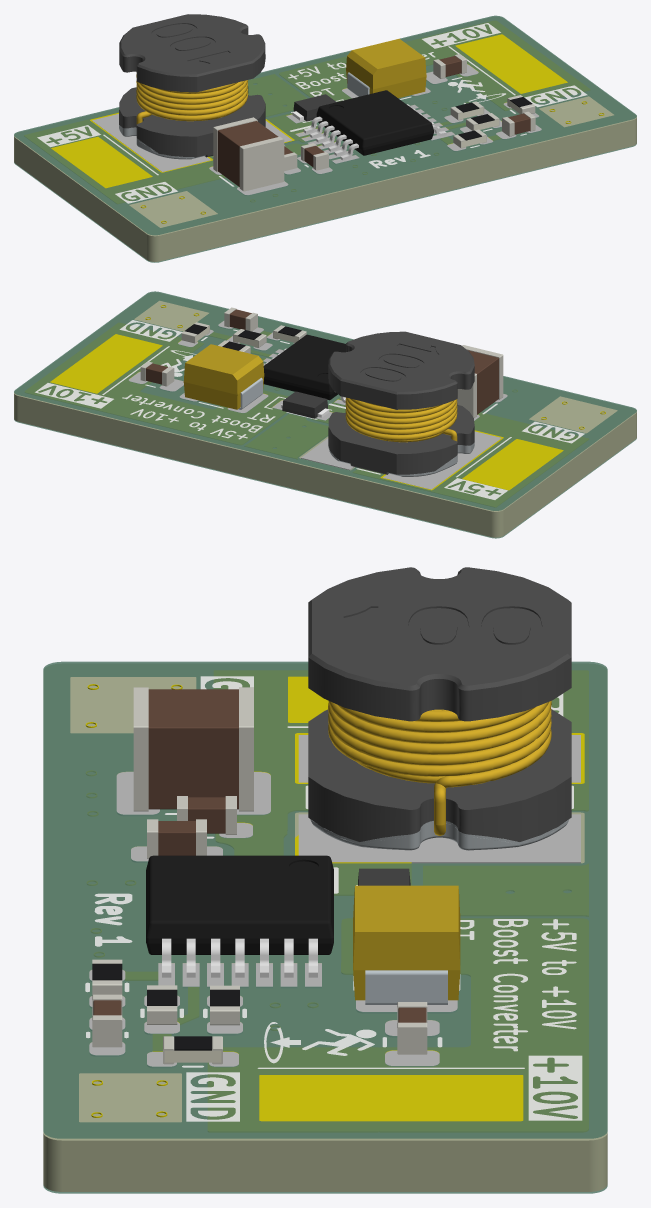
The model's file is board.glb.
3 renders of one model, top to bottom at view 1: azimuth 30°, elevation 25°; view 2: azimuth 150°, elevation 25°; view 3: azimuth 270°, elevation 25°, orthographic. The views are drawn at different scales.
Visible parts, largest first — view 1: =>[0:1:1:29], =>[0:1:1:27], =>[0:1:1:20], =>[0:1:1:23], BODY-TSSOP, =>[0:1:1:22], =>[0:1:1:26], =>[0:1:1:24], =>0:1:1:6, =>[0:1:1:18] (×3), =>[0:1:1:3] (×4), =>[0:1:1:28] (+1 smaller); view 2: =>[0:1:1:29], =>[0:1:1:27], =>[0:1:1:20], =>[0:1:1:23], =>[0:1:1:26], =>0:1:1:6, BODY-TSSOP, =>[0:1:1:24], =>[0:1:1:22], =>[0:1:1:18] (×2), =>[0:1:1:3] (×3), =>[0:1:1:28] (+2 smaller); view 3: =>[0:1:1:27], =>[0:1:1:29], =>[0:1:1:20], =>[0:1:1:23], BODY-TSSOP, =>[0:1:1:24], =>[0:1:1:22], =>[0:1:1:26], =>0:1:1:6, =>[0:1:1:18] (×4), =>[0:1:1:3] (×4), =>0:1:1:8 (+2 smaller).
Part boxes in pixels (<box>): =>[0:1:1:29]: <box>14,17,636,261</box>; =>[0:1:1:27]: <box>14,15,636,235</box>; =>[0:1:1:20]: <box>119,14,265,159</box>; =>[0:1:1:23]: <box>24,21,589,203</box>; BODY-TSSOP: <box>316,90,433,155</box>; =>[0:1:1:22]: <box>213,117,284,191</box>; =>[0:1:1:26]: <box>37,23,587,203</box>; =>[0:1:1:24]: <box>92,64,541,195</box>; =>0:1:1:6: <box>346,38,426,98</box>; =>[0:1:1:18] (×3): <box>301,54,535,170</box>; =>[0:1:1:3] (×4): <box>450,95,535,148</box>; =>[0:1:1:28]: <box>14,143,636,262</box>; =>[0:1:1:29]: <box>14,293,636,537</box>; =>[0:1:1:27]: <box>14,291,636,510</box>; =>[0:1:1:20]: <box>328,331,474,476</box>; =>[0:1:1:23]: <box>25,323,588,506</box>; =>[0:1:1:26]: <box>35,320,584,499</box>; =>0:1:1:6: <box>183,344,264,409</box>; BODY-TSSOP: <box>263,334,345,400</box>; =>[0:1:1:24]: <box>129,321,507,489</box>; =>[0:1:1:22]: <box>457,345,503,417</box>; =>[0:1:1:18] (×2): <box>140,307,257,386</box>; =>[0:1:1:3] (×3): <box>181,322,306,347</box>; =>[0:1:1:28]: <box>14,419,636,538</box>; =>[0:1:1:27]: <box>43,661,607,1138</box>; =>[0:1:1:29]: <box>43,664,607,1191</box>; =>[0:1:1:20]: <box>308,567,571,850</box>; =>[0:1:1:23]: <box>125,671,588,1131</box>; BODY-TSSOP: <box>146,855,333,954</box>; =>[0:1:1:24]: <box>89,735,580,1067</box>; =>[0:1:1:22]: <box>133,687,253,811</box>; =>[0:1:1:26]: <box>85,676,582,1121</box>; =>0:1:1:6: <box>353,885,460,1000</box>; =>[0:1:1:18] (×4): <box>92,796,427,1054</box>; =>[0:1:1:3] (×4): <box>92,959,239,1064</box>; =>0:1:1:8: <box>365,970,447,1004</box>.
Bounding box in the file's own units: 0.03 × 0.00664 × 0.015.
